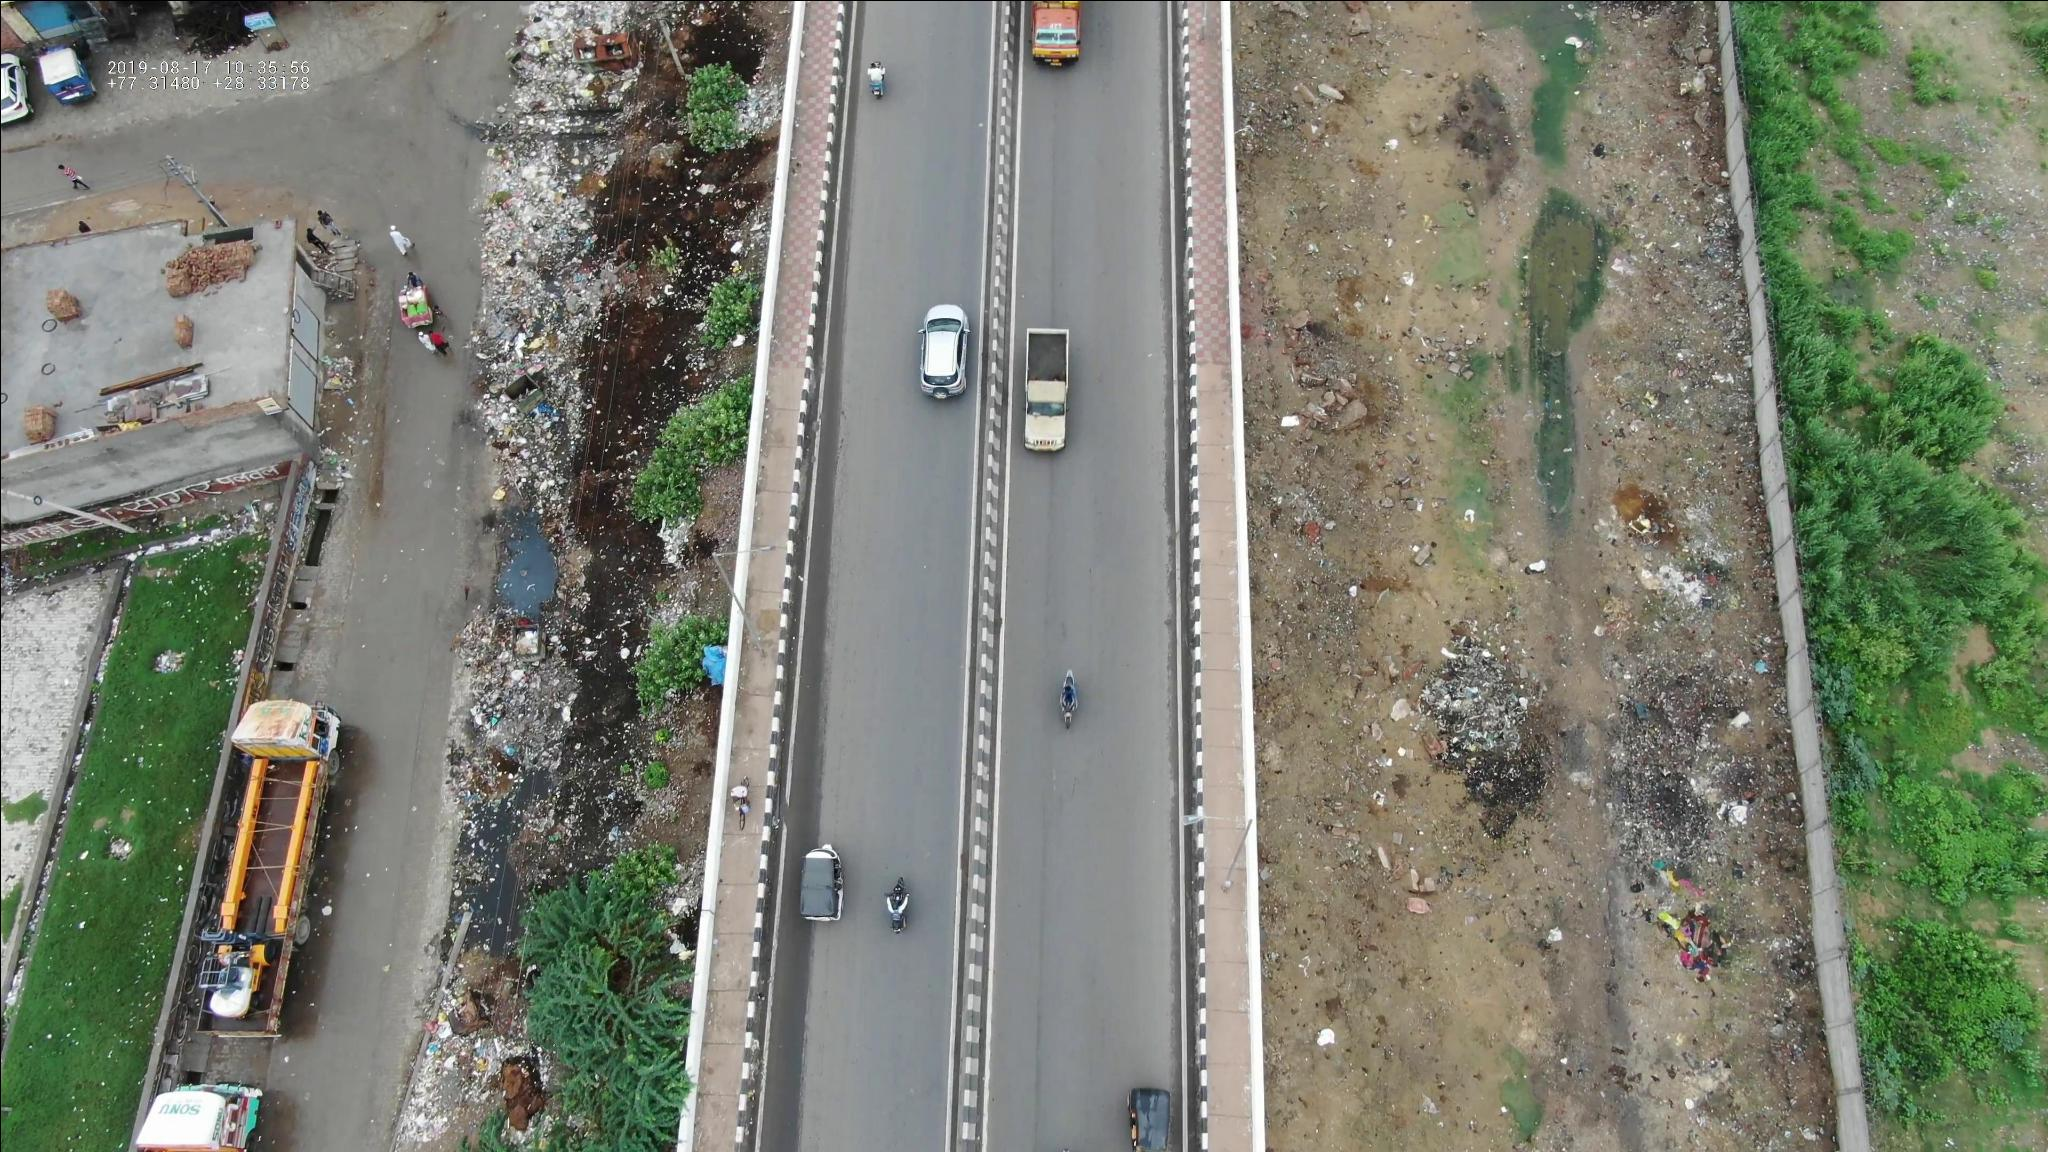Road_side_garbage: (457, 506, 696, 802), (459, 145, 620, 470), (491, 1, 681, 135), (1438, 629, 1539, 830)
